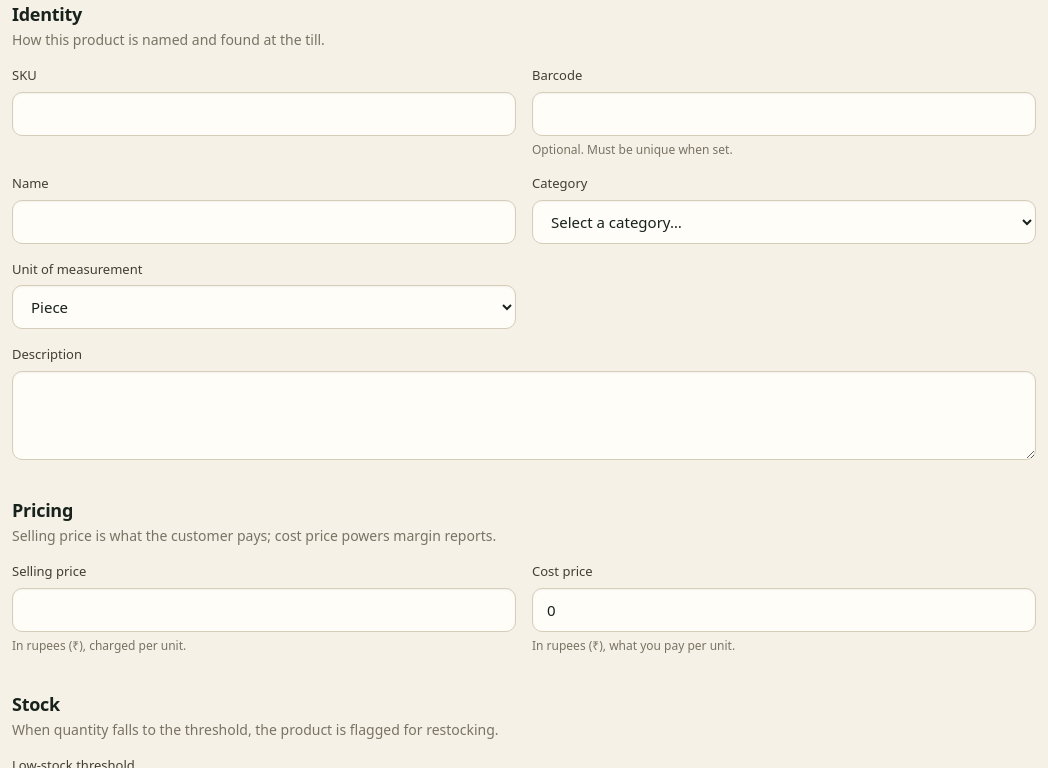
Test case: ProductForm › shows a general error when the server error is not tied to a field
In the field labelled "SKU": [264, 114] box [12,92,516,136], type "MILK-1"
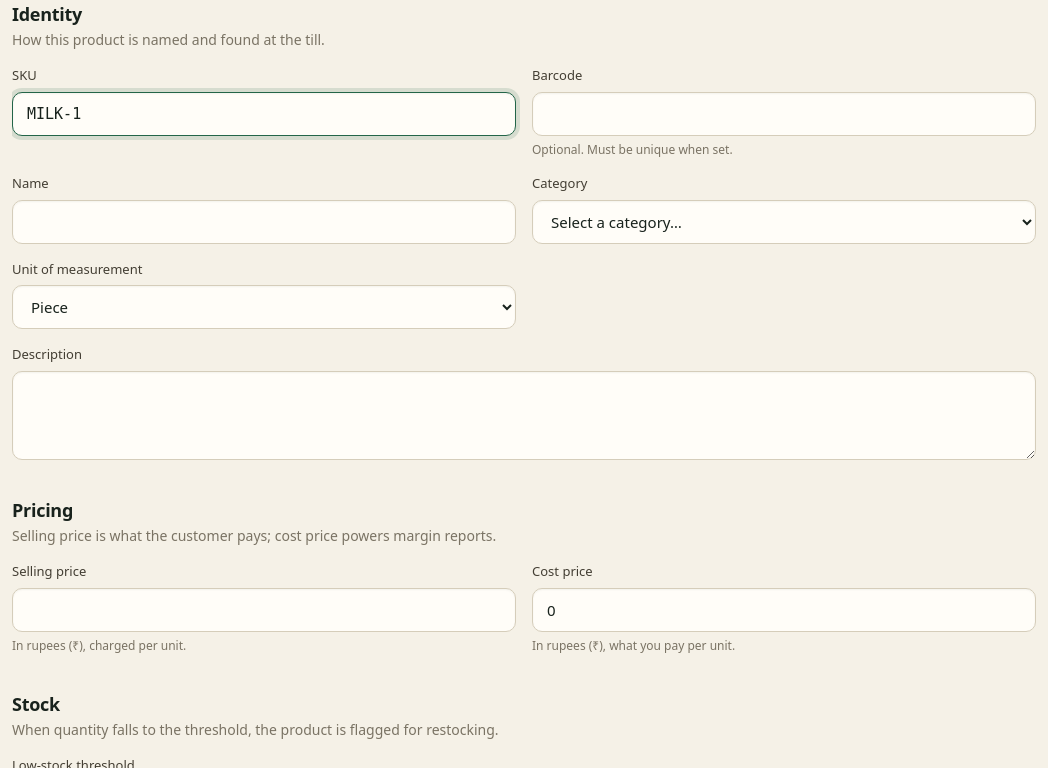
In the field labelled "Name": [264, 222] box [12,200,516,244], type "Whole Milk"
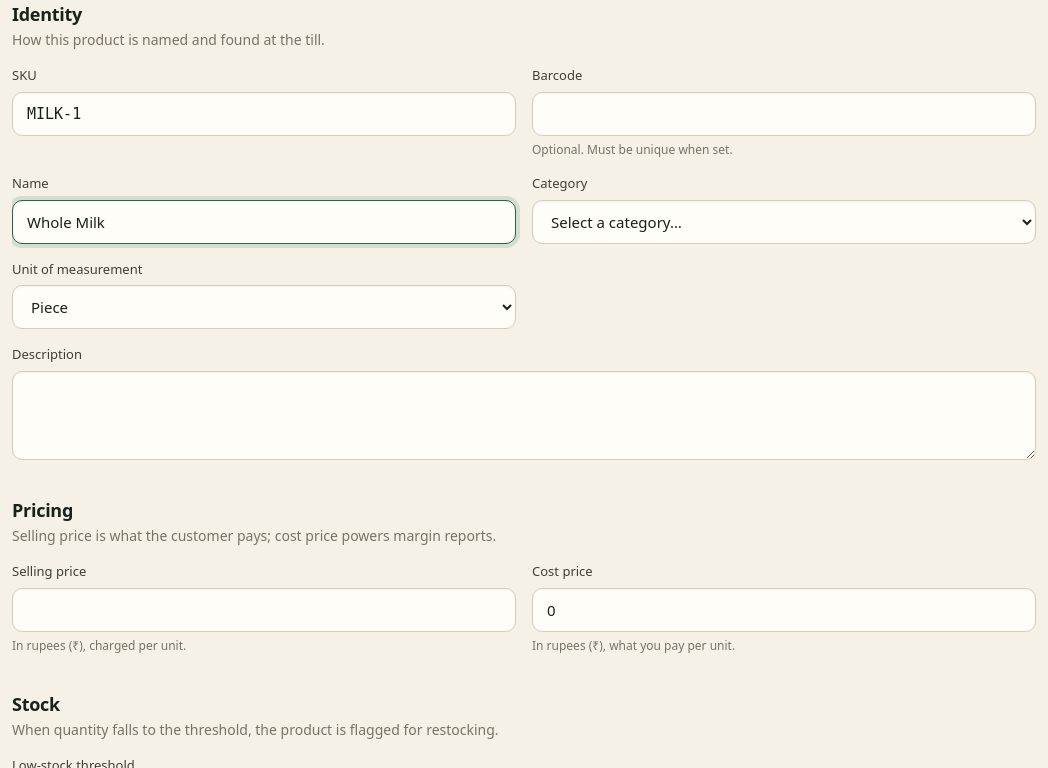
Select "Dairy" in the dropdown labelled "Category": [784, 222] box [532,200,1036,244]
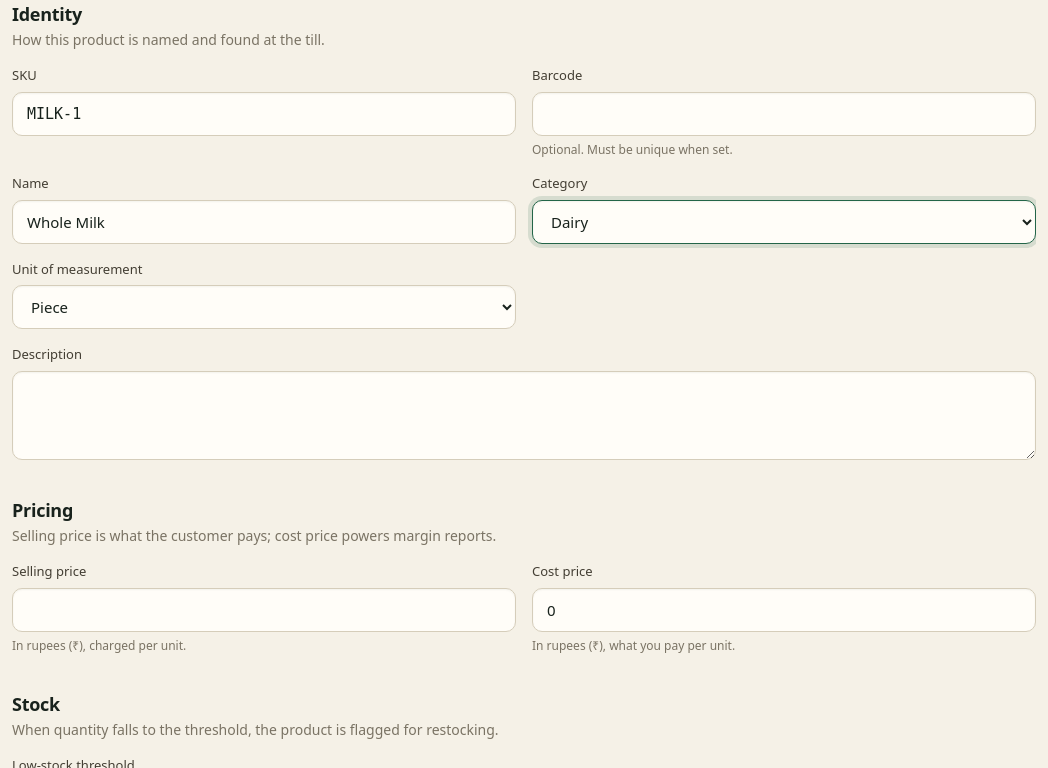
In the field labelled "Selling price": [264, 610] box [12,588,516,632], type "1.99"
(page scrolled)
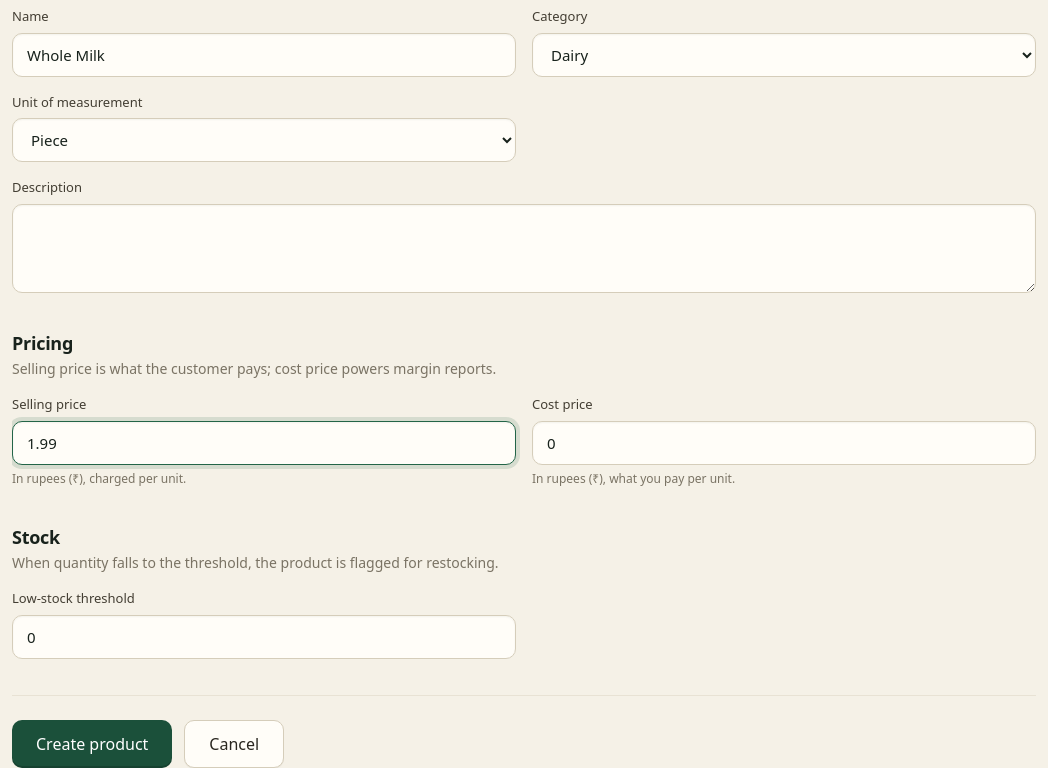
Click the button "Create product": [92, 744] box [12,720,172,767]
(page scrolled)
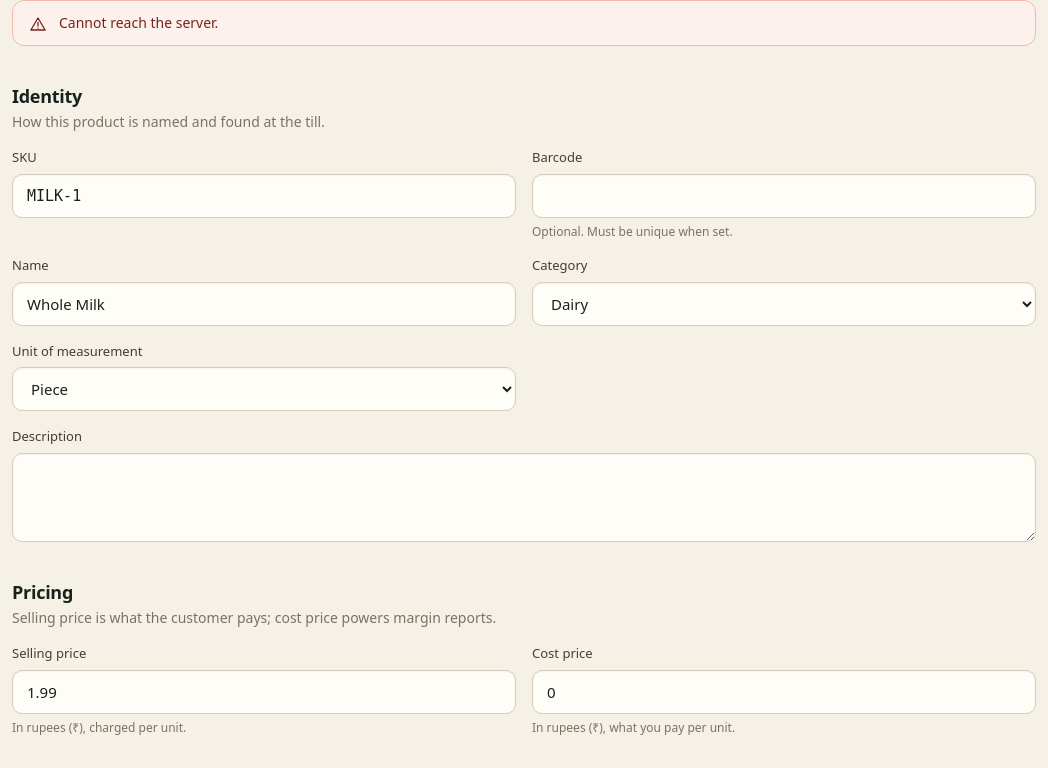
Result: the message reads "Cannot reach the server." at [59,13,218,32]
